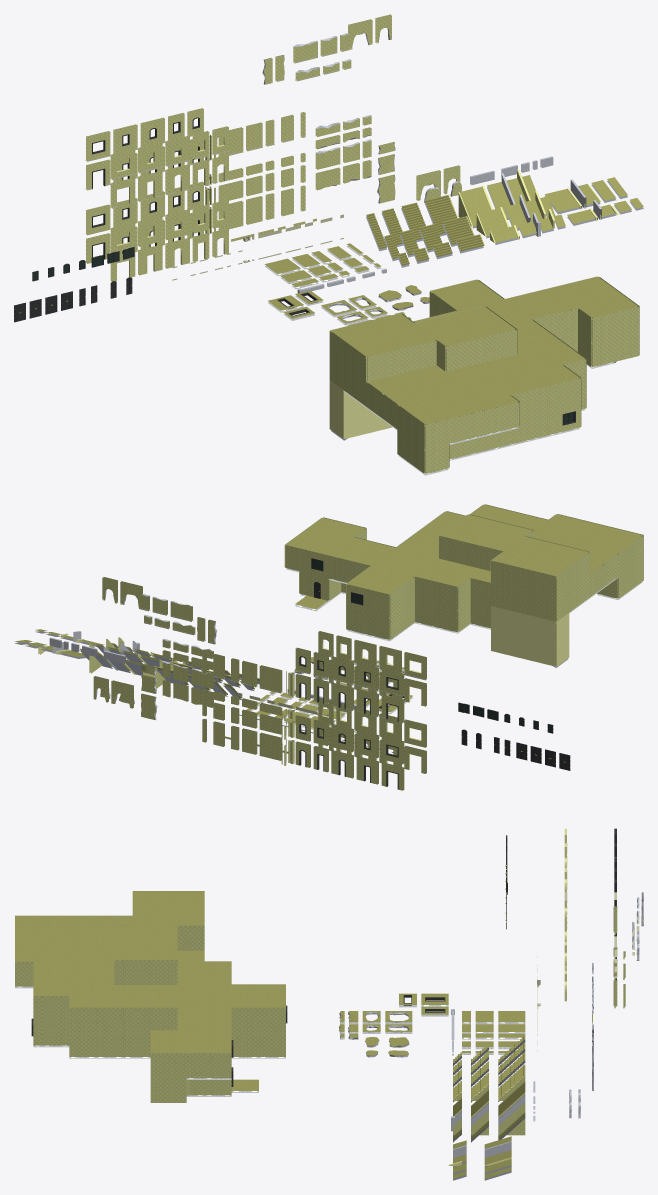
The model's file is BackroomsLikeAsset-RE.fbx.
3 renders of one model, top to bottom at view 1: azimuth 30°, elevation 25°; view 2: azimuth 150°, elevation 25°; view 3: azimuth 270°, elevation 25°, orthographic. The views are drawn at different scales.
Visible parts, largest first — view 1: TstLvl, Stair_3x3, Ramp_A_3x3; view 2: TstLvl, BR_Wall_B_3x3, BR_Wall_A_3x3, BR_Wall_A_3x3_Window_B, BR_Wall_B_3x3_Window_B, BR_Wall_B_3x3_Window_A, BR_Wall_A_3x3_Window_A, BR_Wall_B_3x3_Window_C, BR_Wall_A_3x3_Window_C, BR_Wall_A_3x3_Door_B, BR_Wall_B_3x3_Door_B, BR_Wall_B_3x3_Door_A (+9 smaller); view 3: TstLvl.
Boxes of the visible parts, box(x1,y1,x2,y2) form: TstLvl: box(329, 276, 639, 475); Stair_3x3: box(424, 195, 456, 236); Ramp_A_3x3: box(459, 186, 490, 228); TstLvl: box(284, 504, 643, 667); BR_Wall_B_3x3: box(259, 665, 282, 693); BR_Wall_A_3x3: box(259, 732, 282, 760); BR_Wall_A_3x3_Window_B: box(331, 724, 353, 752); BR_Wall_B_3x3_Window_B: box(331, 656, 353, 684); BR_Wall_B_3x3_Window_A: box(356, 662, 379, 690); BR_Wall_A_3x3_Window_A: box(356, 730, 378, 758); BR_Wall_B_3x3_Window_C: box(381, 668, 404, 696); BR_Wall_A_3x3_Window_C: box(381, 736, 404, 764); BR_Wall_A_3x3_Door_B: box(331, 750, 353, 778); BR_Wall_B_3x3_Door_B: box(331, 682, 353, 710); BR_Wall_B_3x3_Door_A: box(356, 689, 379, 716); TstLvl: box(15, 891, 287, 1102).
Size of what is drawn, in the model's own units: 77.25 by 23.25 by 69.78.
